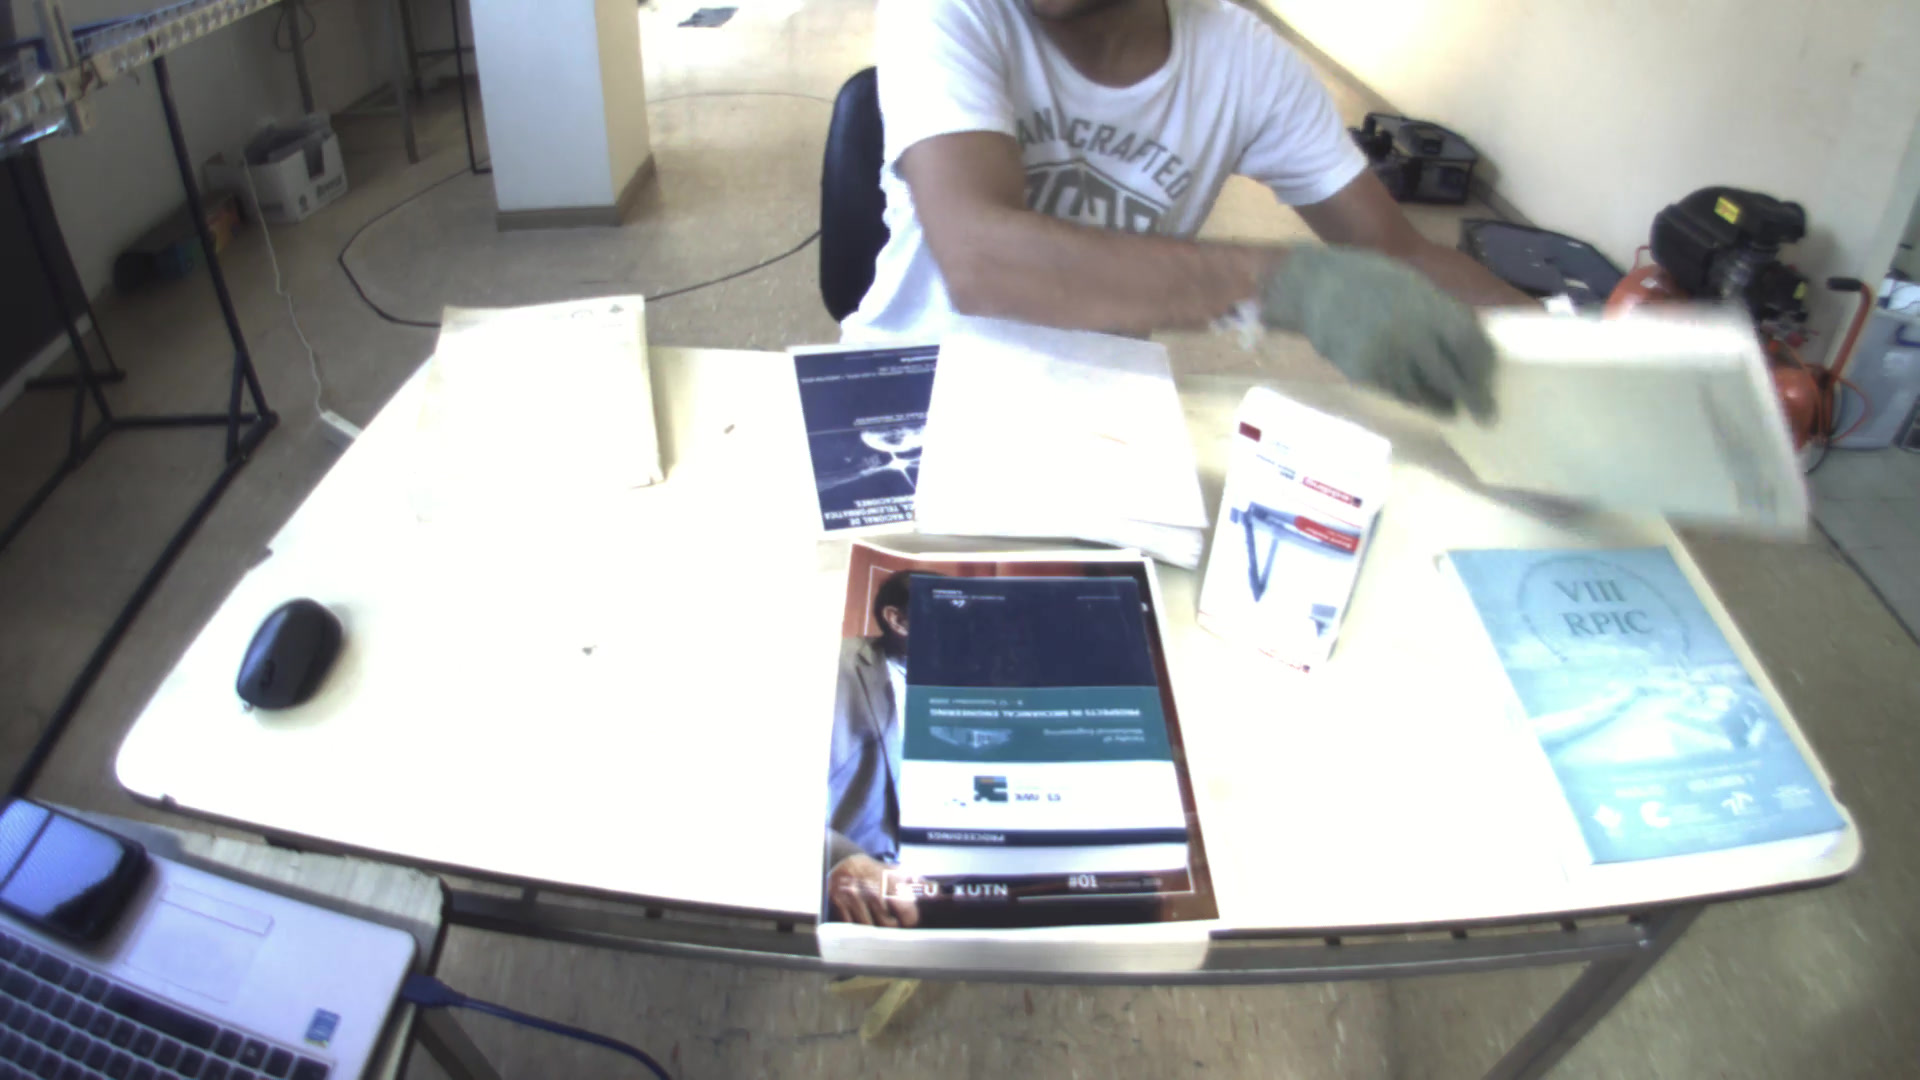hand: (1257, 239, 1498, 422)
